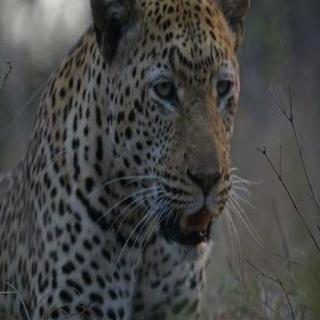Leopard: (4, 0, 267, 320)
